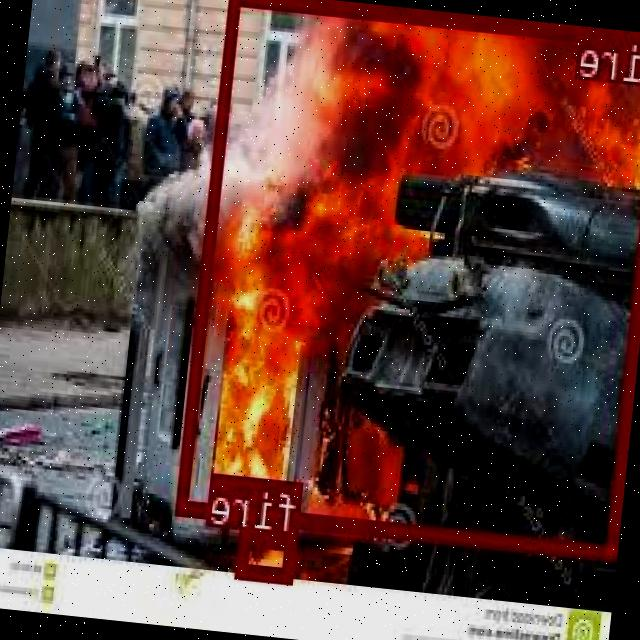fire: (180, 0, 640, 555), (238, 528, 300, 580)
